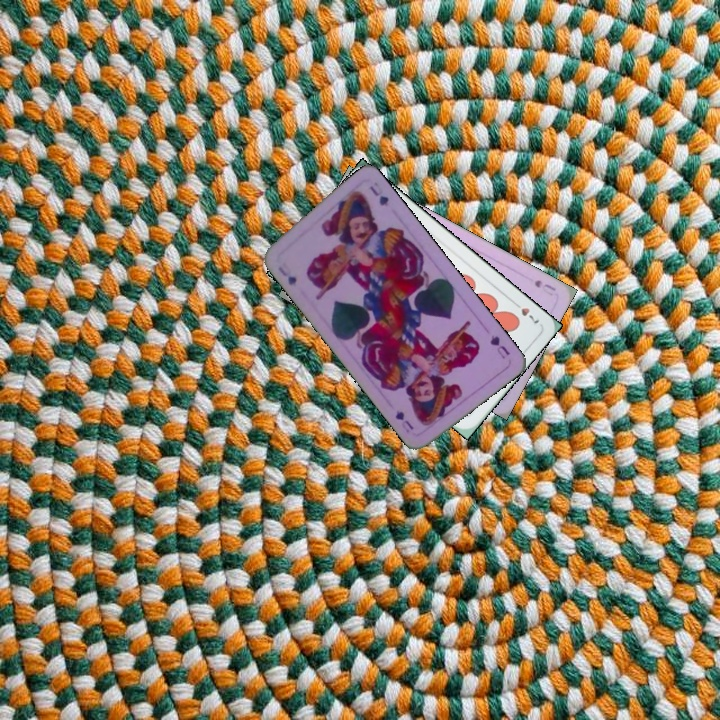GU: (486, 331, 513, 361), (273, 262, 299, 289)
H7: (508, 297, 542, 326)
SU: (530, 276, 559, 299)
